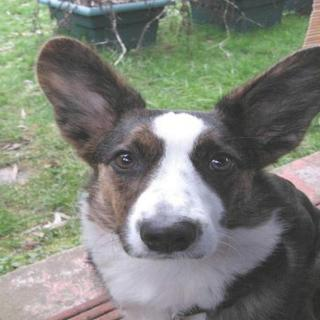dog: (47, 35, 316, 279)
nose: (136, 214, 204, 255)
